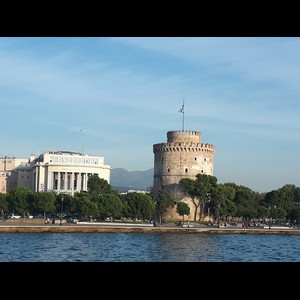White Tower: (149, 98, 216, 220)
